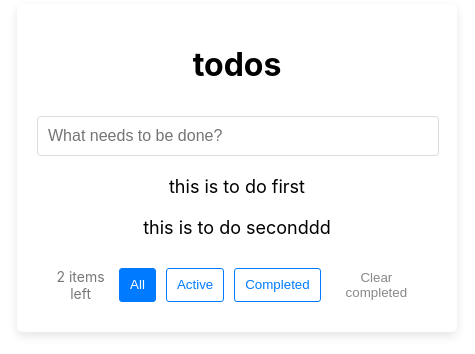
Test case: TodoApp › filters active todos
What coordinates should you click on to do the following:
click the list item "this is to do first"
I would click on:
 (237, 186)
Its box is [169,176,305,197].
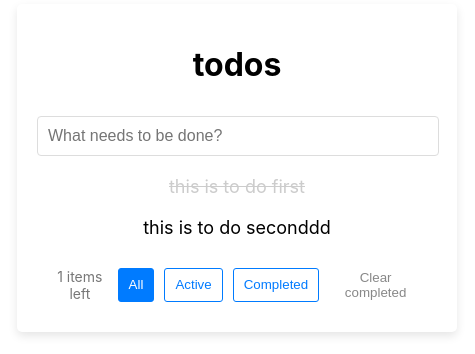
What coordinates should you click on to do the following:
click the button "Active"
I would click on:
 (194, 285)
Its box is [164,268,223,302].
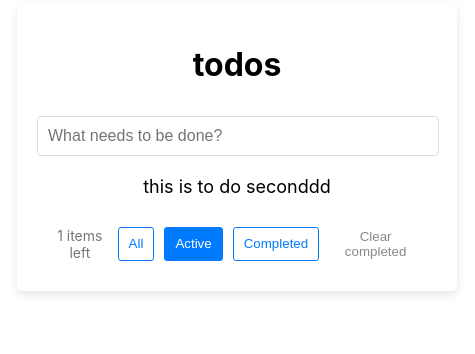
Expected: the list item "this is to do seconddd" is shown, [143,176,331,197]
Now the list item "this is to do first" is gone
